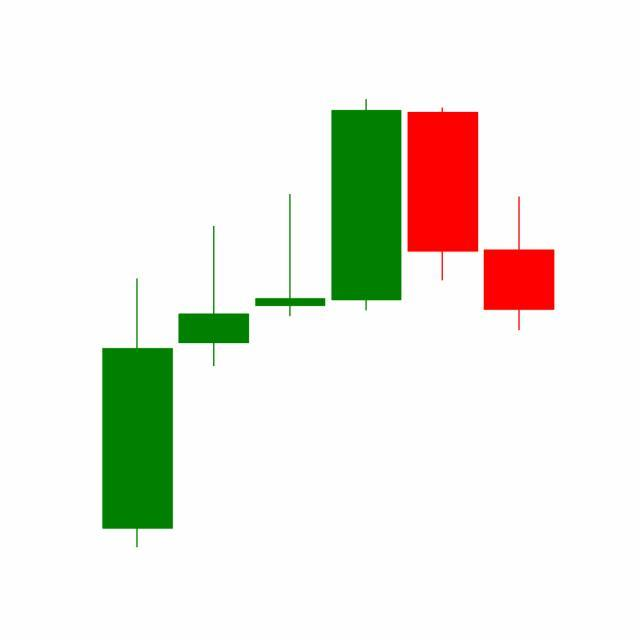Hikkake Pattern: (175, 99, 555, 371)
